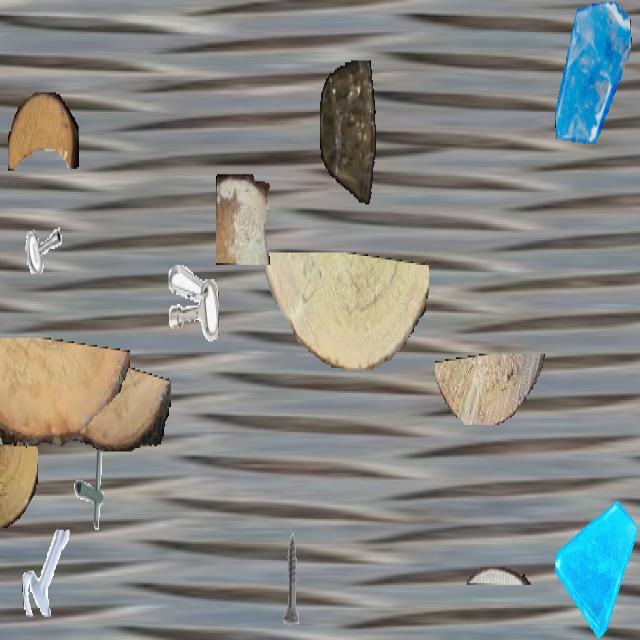glass: (555, 492, 637, 638), (553, 2, 633, 144)
metal: (264, 530, 318, 626), (12, 176, 66, 272), (66, 439, 118, 532), (168, 262, 218, 351), (22, 528, 72, 617)
plastic: (320, 60, 376, 206)
wood: (258, 252, 428, 370), (0, 338, 130, 448), (26, 359, 170, 452), (435, 354, 547, 425), (8, 92, 78, 170), (216, 174, 270, 263), (0, 444, 38, 526), (467, 567, 531, 585)
